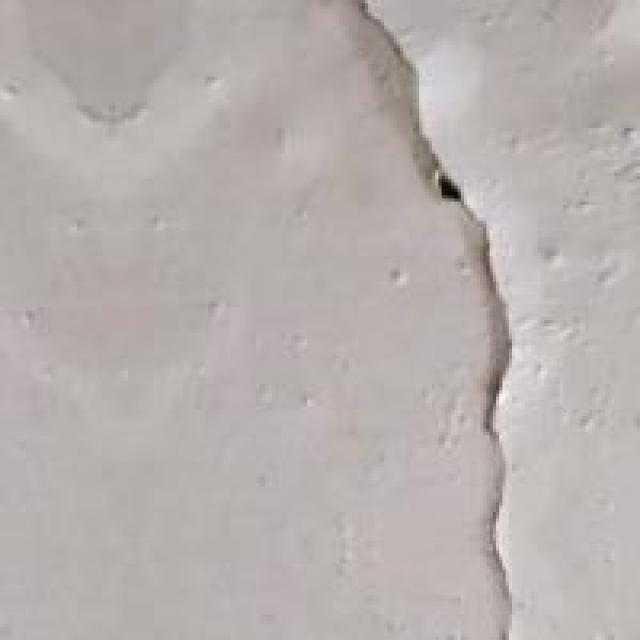crack: (349, 0, 595, 637)
